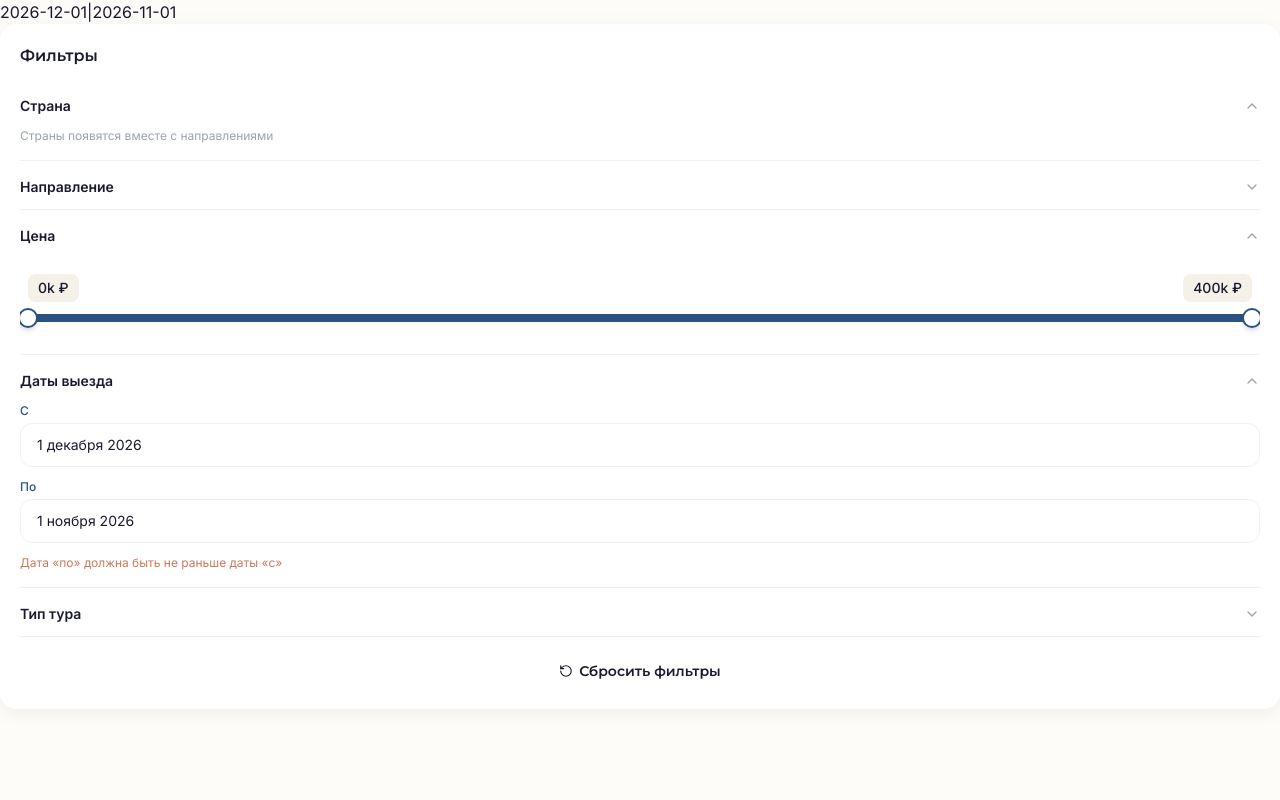
Test: TourFilters dates › marks an inverted range and clears it from the calendar
Expected: the text "Дата «по» должна быть не раньше даты «с»" is shown, [20,555,282,570]
Click the button named "С". click: coordinates (89, 444)
box: [20,423,1260,467]
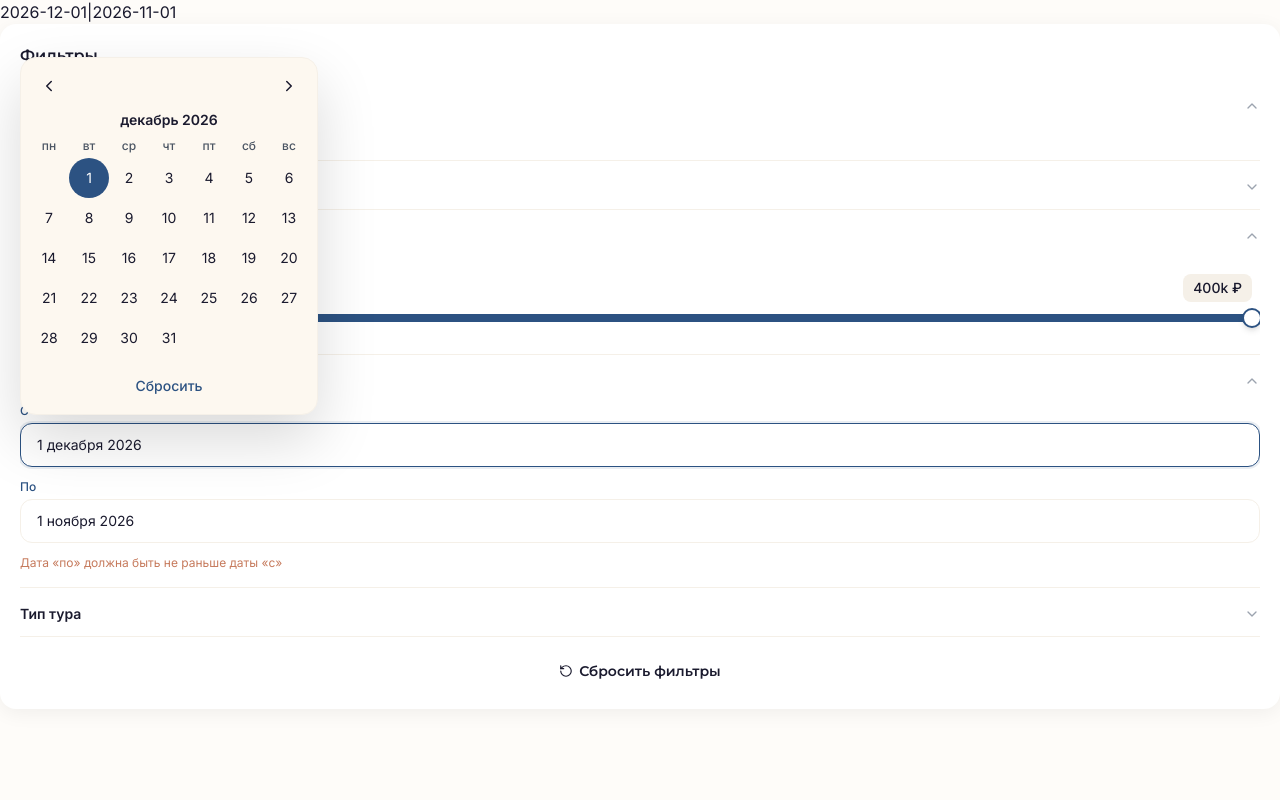
Click the button "Сбросить". click: coordinates (169, 386)
box: [29,366,309,406]
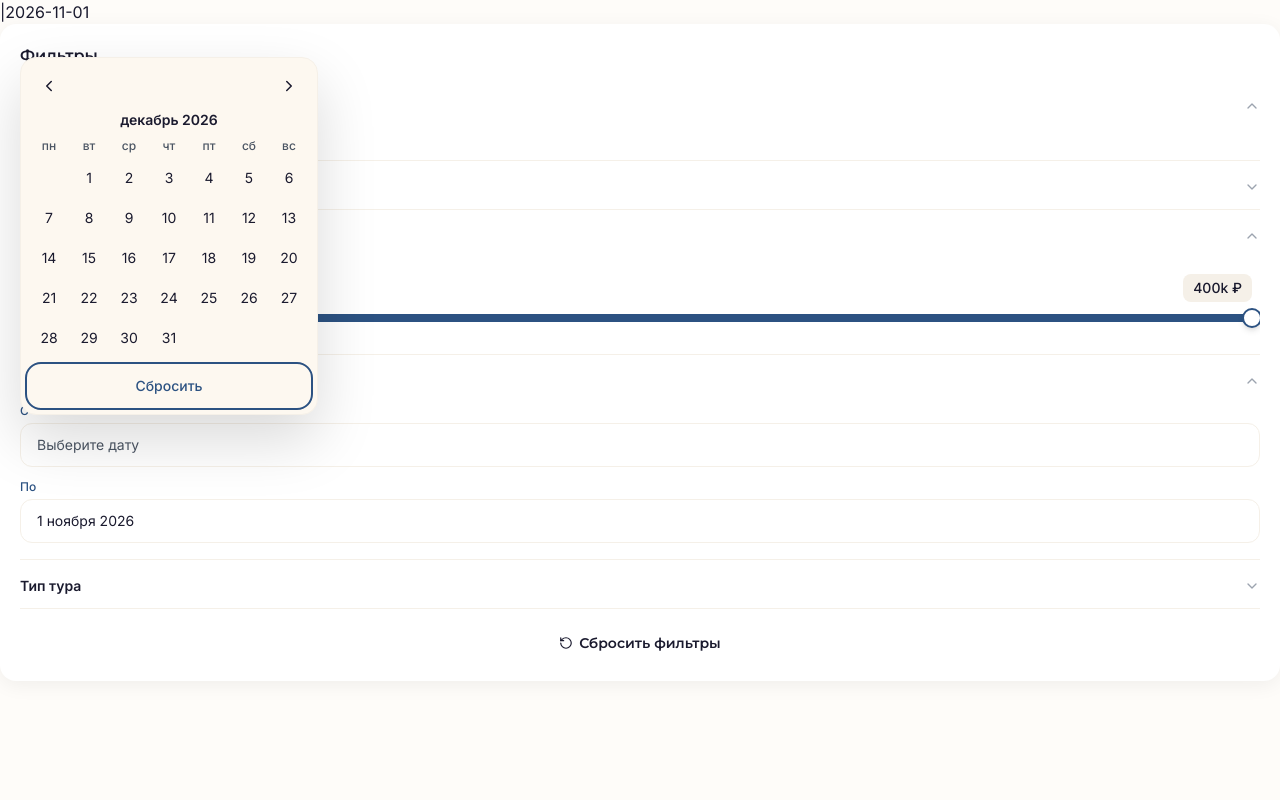
Expected: the text with test id "dates" reads "|2026-11-01", [0,2,89,22]
